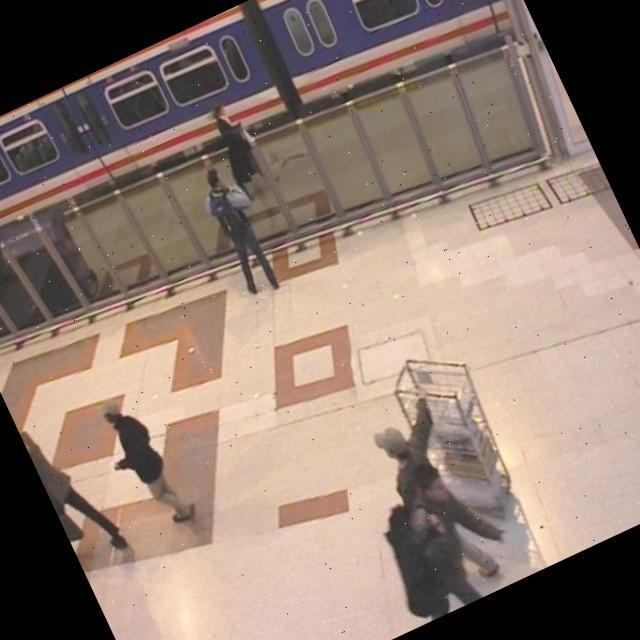person: (348, 454, 502, 631), (13, 398, 138, 585), (80, 384, 204, 543), (177, 152, 298, 313), (344, 372, 449, 507), (198, 92, 278, 205)
